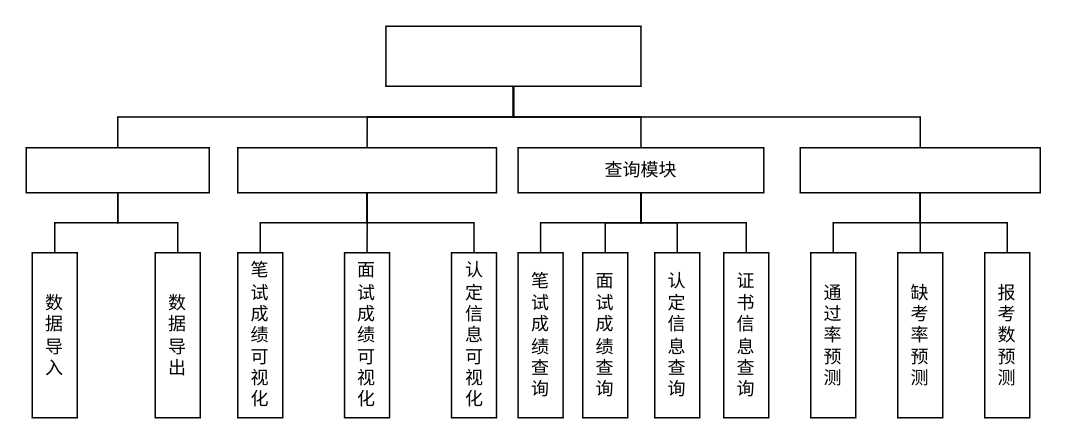
The diagram is 1067 pixels wide and 444 high, and some of its shapes have lost their labels. Each missing label, with the centre of its shape:
教师资格证数据分析系统: [512,55]
数据上传和下载模块: [117,169]
数据可视化模块: [366,169]
数据预测模块: [919,169]
